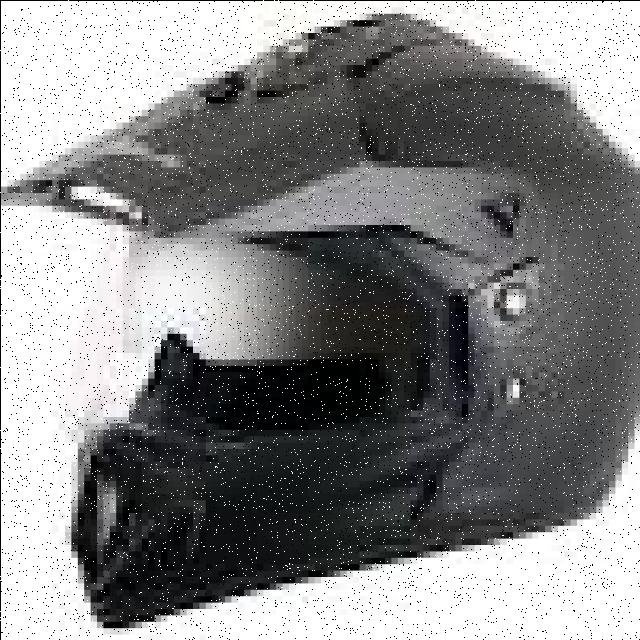Helmet: (16, 15, 635, 623)
